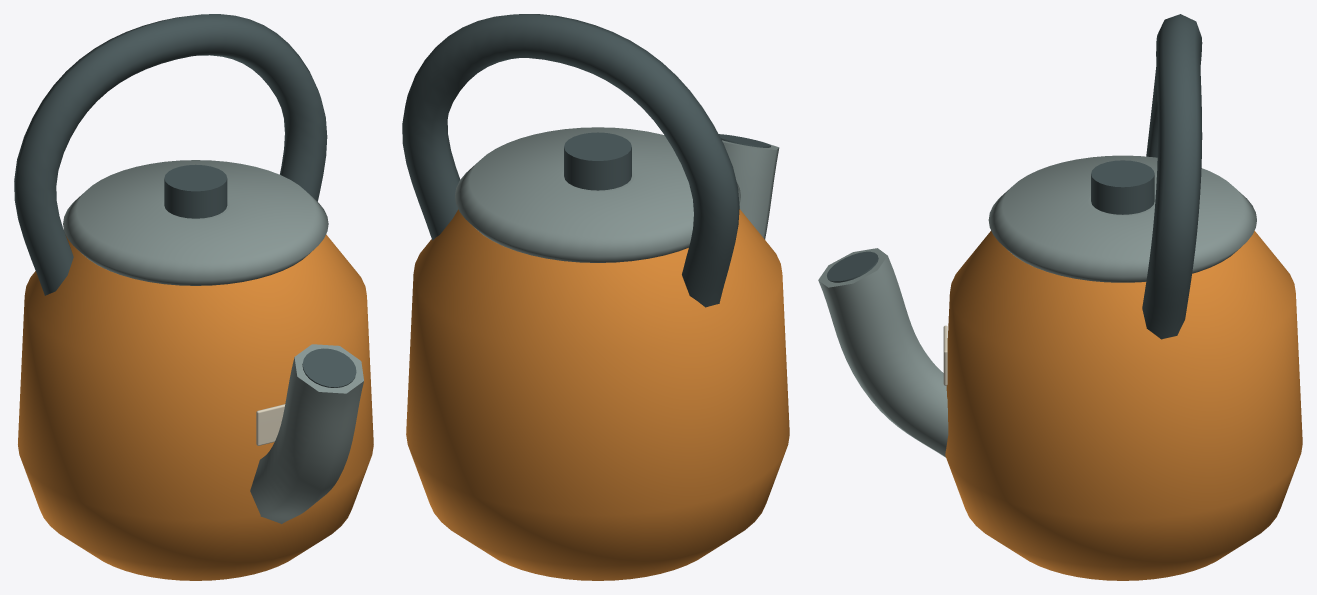
File: kettle.glb
The picture shows the model from 3 angles, left to right: view 1: azimuth 30°, elevation 25°; view 2: azimuth 150°, elevation 25°; view 3: azimuth 270°, elevation 25°; orthographic projection. The views are drawn at different scales.
Visible parts, largest first — view 1: kettle / 03 • ochre enamel, kettle / 05 • brushed titanium, kettle / 06 • dark anodized frame, kettle / 01 • warm porcelain paint; view 2: kettle / 03 • ochre enamel, kettle / 06 • dark anodized frame, kettle / 05 • brushed titanium; view 3: kettle / 03 • ochre enamel, kettle / 05 • brushed titanium, kettle / 06 • dark anodized frame.
Part boxes in pixels (bbox=[...]): kettle / 03 • ochre enamel: bbox=[18, 234, 373, 580]; kettle / 05 • brushed titanium: bbox=[63, 160, 363, 523]; kettle / 06 • dark anodized frame: bbox=[14, 14, 356, 387]; kettle / 01 • warm porcelain paint: bbox=[256, 404, 285, 445]; kettle / 03 • ochre enamel: bbox=[406, 209, 789, 580]; kettle / 06 • dark anodized frame: bbox=[402, 14, 770, 307]; kettle / 05 • brushed titanium: bbox=[455, 127, 779, 262]; kettle / 03 • ochre enamel: bbox=[945, 230, 1302, 580]; kettle / 05 • brushed titanium: bbox=[818, 155, 1256, 457]; kettle / 06 • dark anodized frame: bbox=[827, 14, 1202, 339].
Size of the model in its own units: 0.26 by 0.396 by 0.3502.
